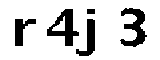3: (113, 6, 148, 47)
4: (44, 6, 79, 47)
j: (77, 6, 101, 60)
r: (10, 14, 38, 50)
